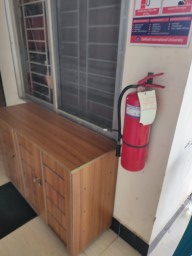fire_extinguisher: (54, 35, 129, 98)
